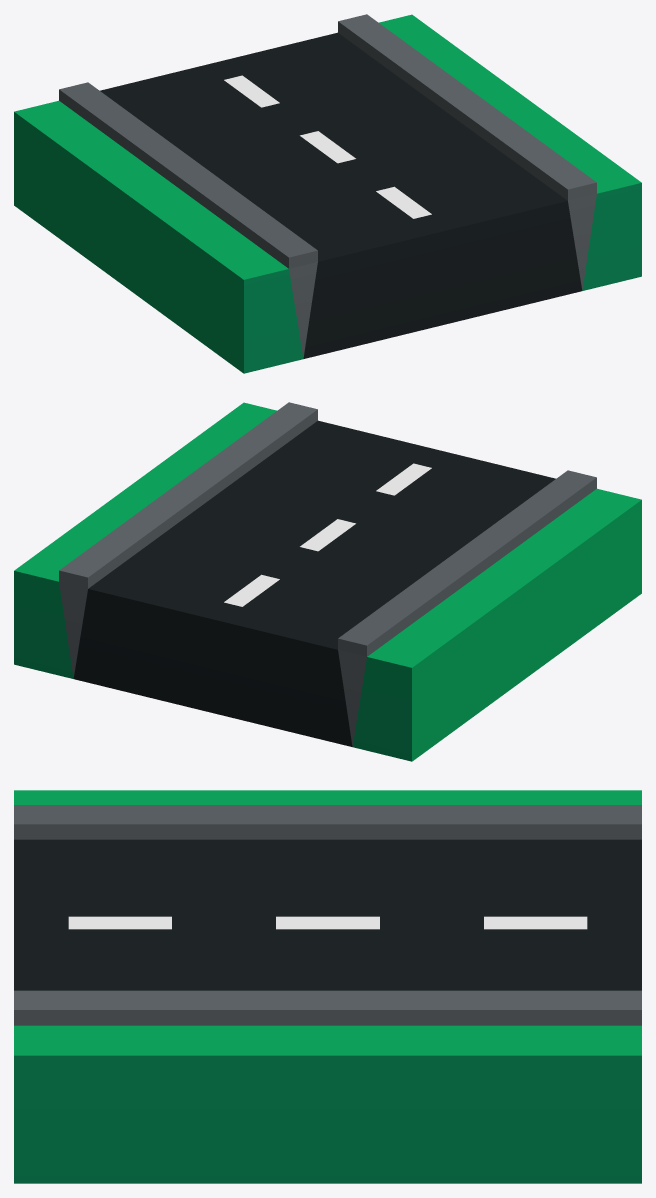
The model's file is CARRETERA SIMPLE.fbx.
3 views of the same model, one above another, from view 1: azimuth 30°, elevation 25°; view 2: azimuth 150°, elevation 25°; view 3: azimuth 270°, elevation 25° (orthographic). The views are drawn at different scales.
Parts seen in each view (by area): view 1: normal.011; view 2: normal.011; view 3: normal.011.
Boxes of the visible parts, <box> form: normal.011: <box>14,14,641,373</box>; normal.011: <box>14,402,641,761</box>; normal.011: <box>14,790,641,1183</box>.
Bounding box in the file's own units: 900 × 900 × 227.
Materials: 1 (1 with a texture image).
